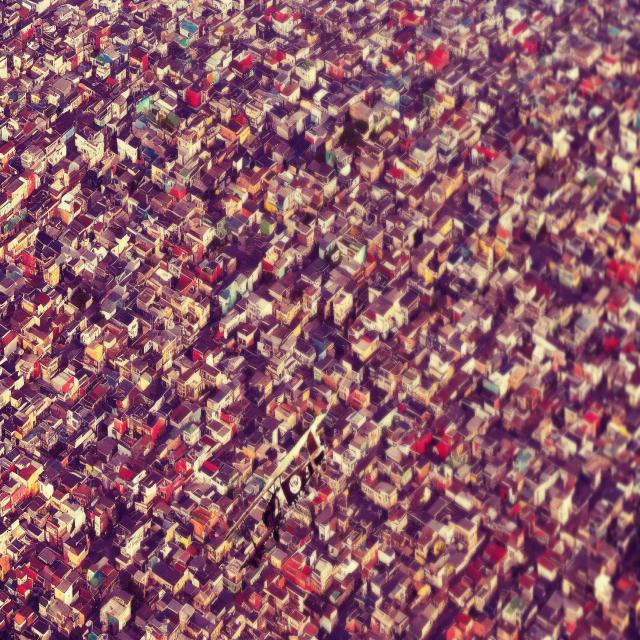airplane: (224, 368, 349, 574)
